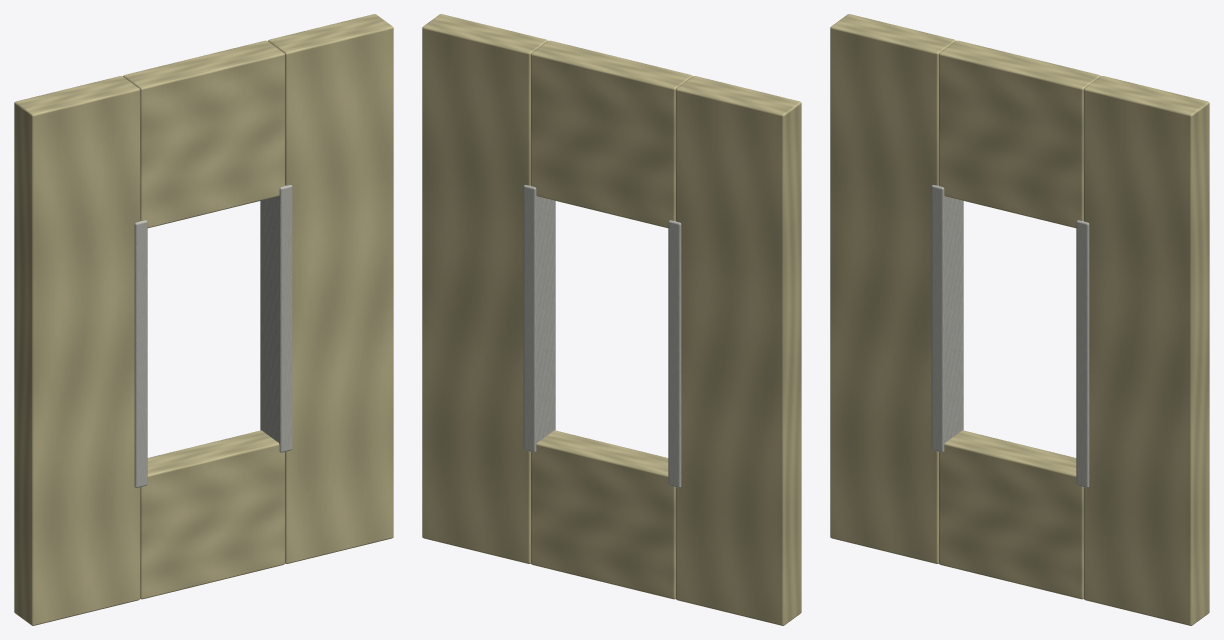
The model's file is three-d-liminal-spaces-kit-liminal-spaces-kit-wall-hole-f380bba8.glb.
The picture shows the model from 3 angles, left to right: view 1: azimuth 30°, elevation 25°; view 2: azimuth 150°, elevation 25°; view 3: azimuth 330°, elevation 25°; orthographic projection.
Parts seen in each view (by area): view 1: wall-hole; view 2: wall-hole; view 3: wall-hole.
Boxes of the visible parts, x1,y1,x2,y2 form: wall-hole: [14, 14, 393, 625]; wall-hole: [422, 14, 801, 625]; wall-hole: [830, 14, 1209, 625].
Bounding box in the file's own units: 2 × 2.7 × 0.2.
Materials: 2 (2 with a texture image).
